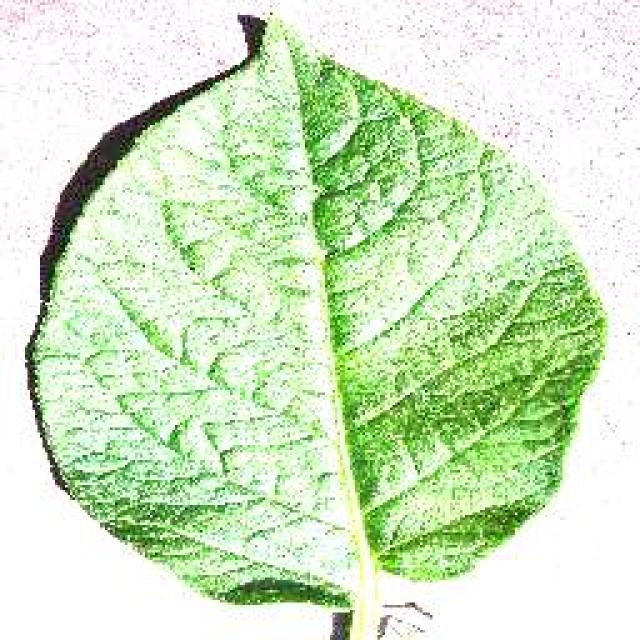Potato___healthy: (23, 10, 614, 638)
